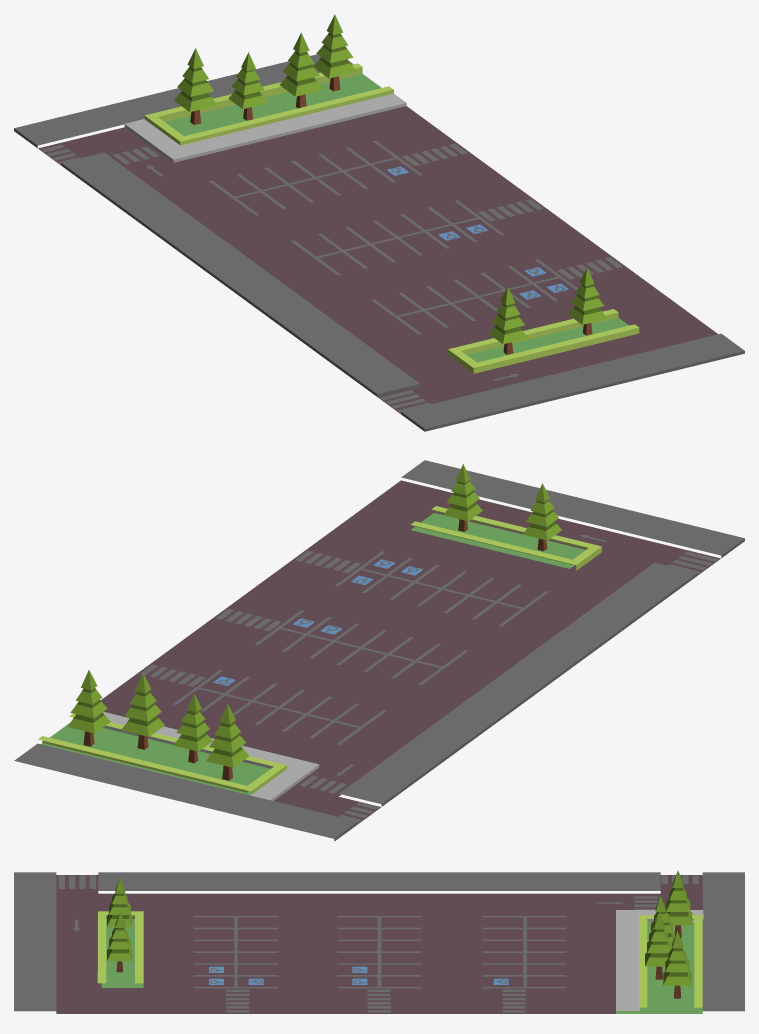
Rendered from parking_lvl_6.FBX.
The picture shows the model from 3 angles, top to bottom: view 1: azimuth 30°, elevation 25°; view 2: azimuth 150°, elevation 25°; view 3: azimuth 270°, elevation 25°; orthographic projection. The views are drawn at different scales.
Parts seen in each view (by area): view 1: parking_lvl_6; view 2: parking_lvl_6; view 3: parking_lvl_6.
Part boxes in pixels (left/top/right/bottom): parking_lvl_6: left=14, top=14, right=744, bottom=431; parking_lvl_6: left=14, top=460, right=744, bottom=841; parking_lvl_6: left=14, top=870, right=744, bottom=1013.
Bounding box in the file's own units: 5850 × 1436 × 13000.
